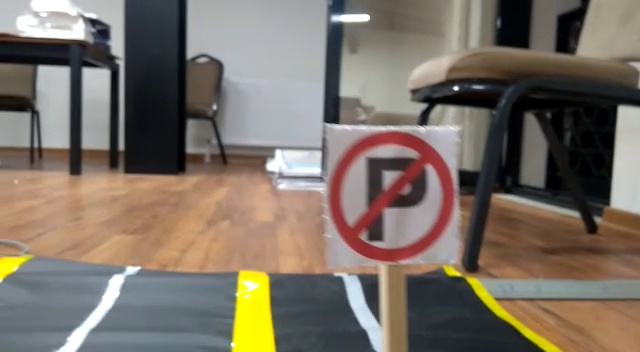park_yapilmaz: (320, 131, 455, 265)
